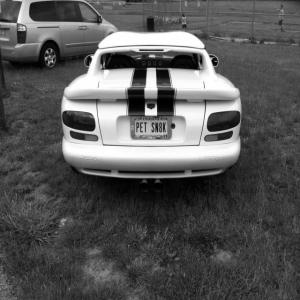Plate: (131, 116, 172, 139)
